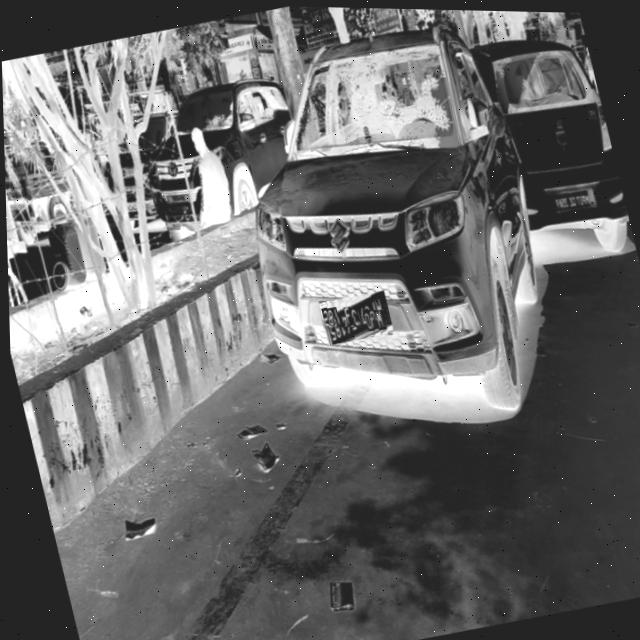0: (360, 307, 371, 329)
1: (330, 305, 338, 324)
4: (334, 305, 345, 325)
5: (318, 305, 329, 325)
7: (354, 307, 365, 328)
8: (324, 306, 334, 325)
C: (347, 306, 358, 325)
F: (341, 305, 351, 326)
IND: (378, 307, 389, 323)
Indian_registered: (322, 289, 388, 343)
M: (373, 308, 383, 329)
P: (366, 307, 376, 326)
